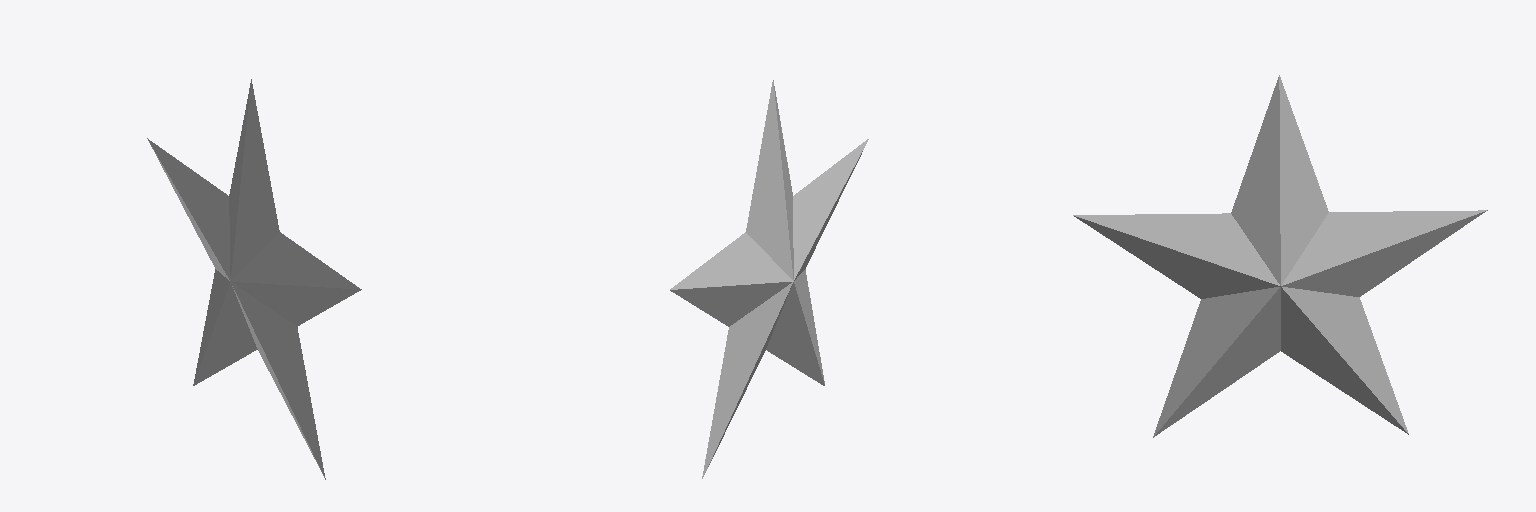
Rendered from Star.obj.
The picture shows the model from 3 angles: view 1: azimuth 30°, elevation 25°; view 2: azimuth 150°, elevation 25°; view 3: azimuth 270°, elevation 25°; orthographic projection.
Parts seen in each view (by area): view 1: Mesh_Mesh.015; view 2: Mesh_Mesh.015; view 3: Mesh_Mesh.015.
Boxes of the visible parts, box(x1,y1,x2,y2) form: Mesh_Mesh.015: box(147, 79, 361, 479); Mesh_Mesh.015: box(670, 80, 868, 478); Mesh_Mesh.015: box(1073, 75, 1487, 437).
Bounding box in the file's own units: 0.7076 × 4.74 × 4.98.